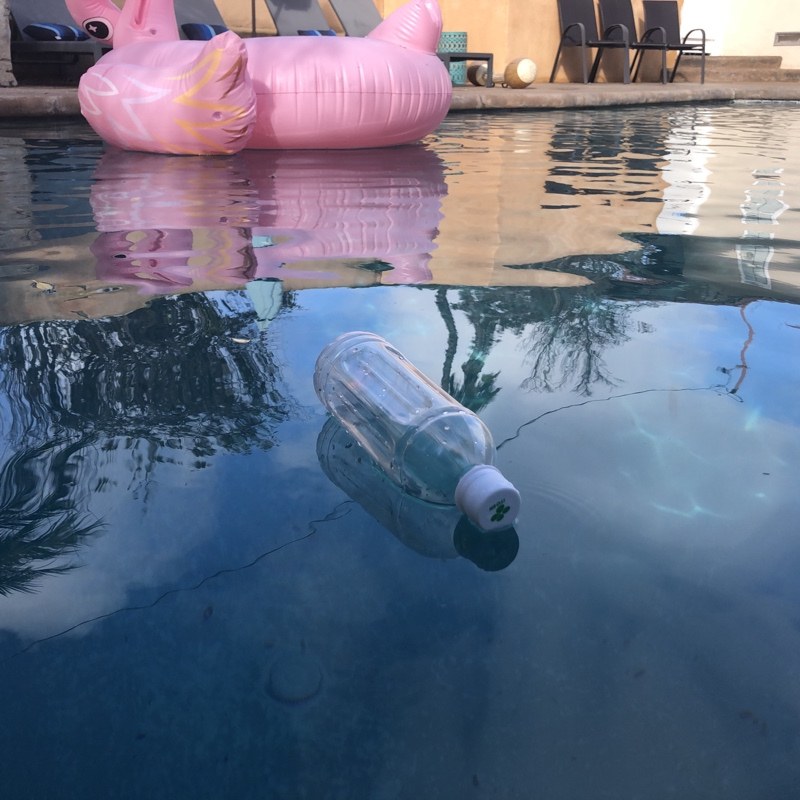Plastic Bottle: (310, 325, 525, 541)
